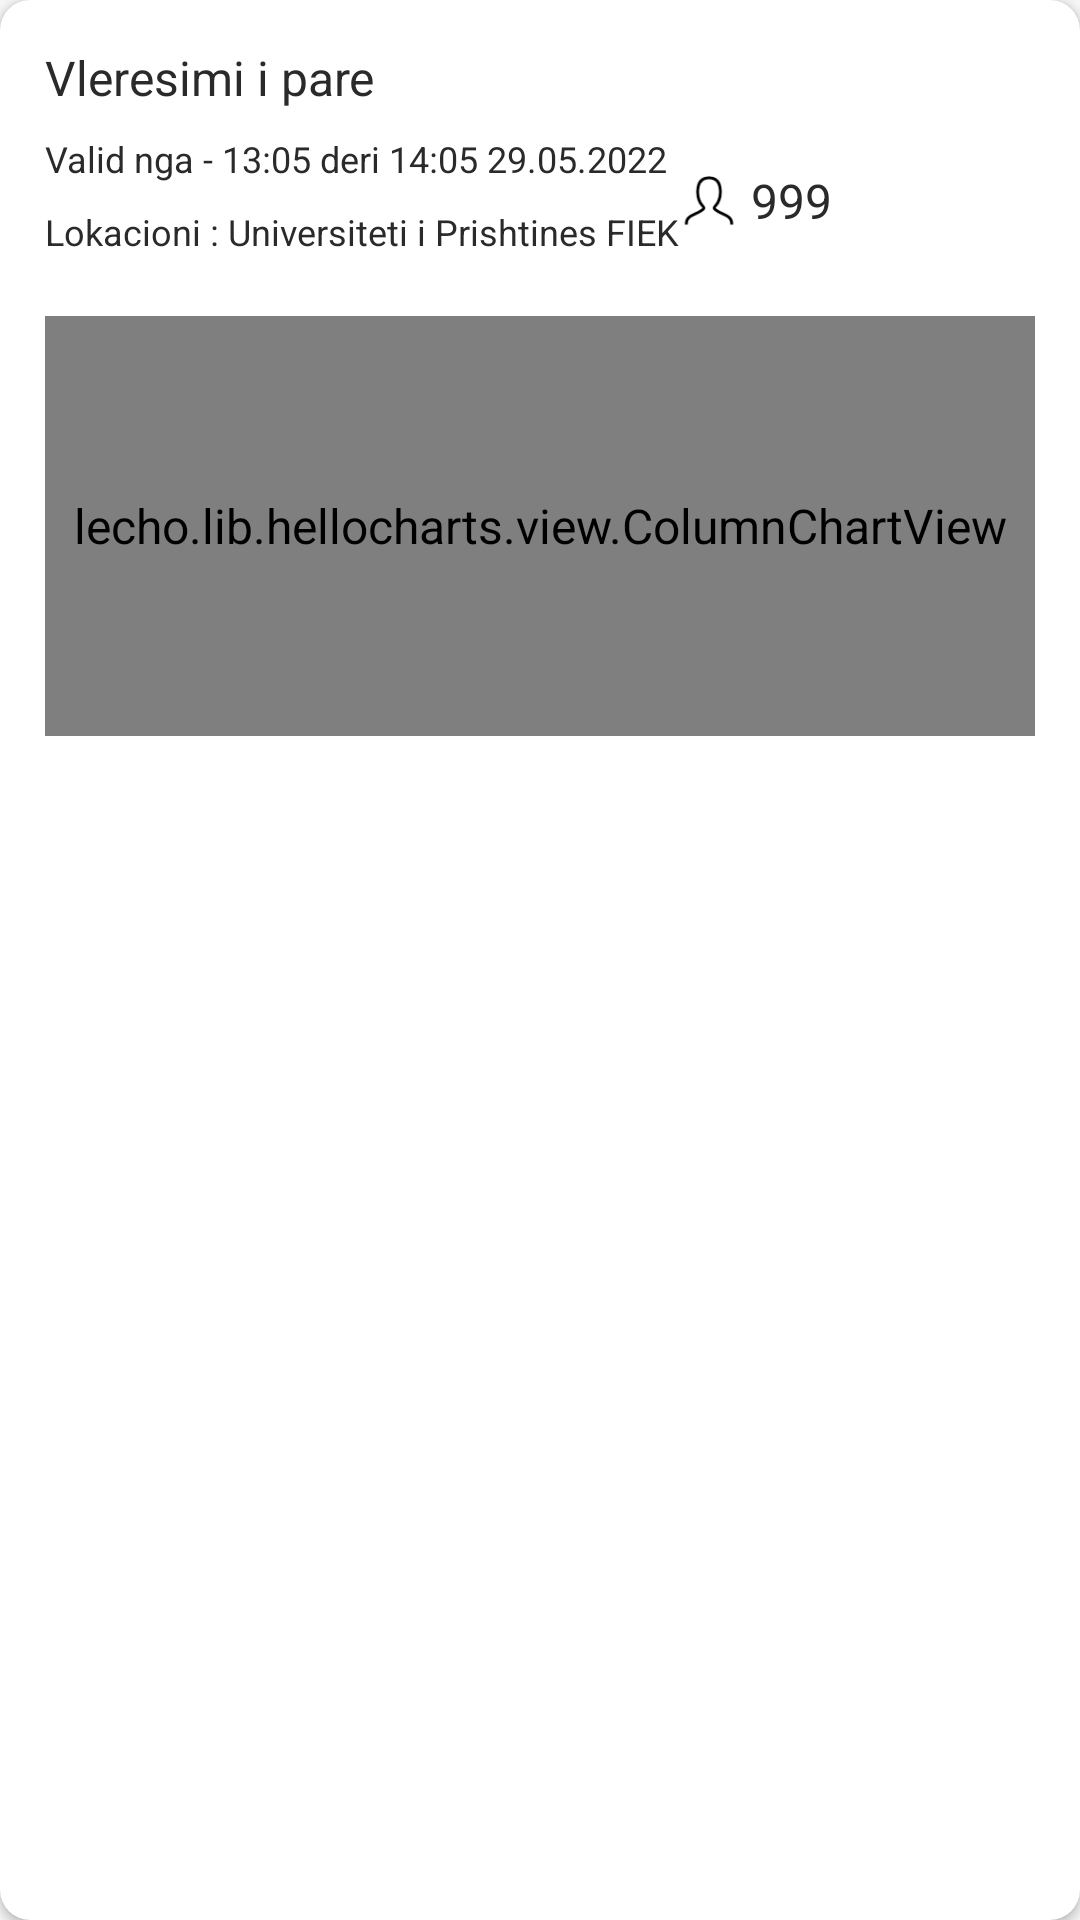

Icons on this 1080x1920 Android screen, each with its box as (x1, y1, x2, y2):
person rater: (684, 176, 734, 225)
